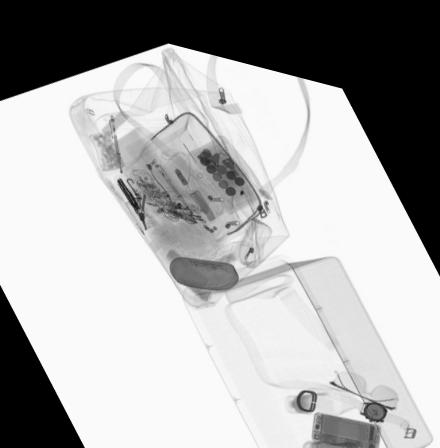Lighter: (145, 180, 169, 188)
